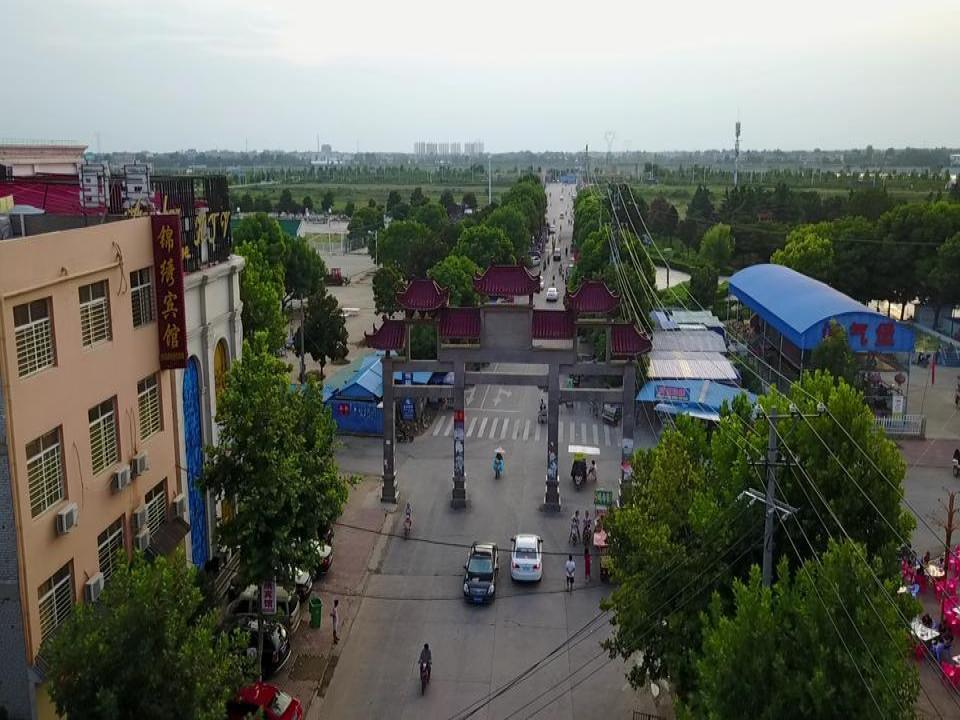car: (178, 612, 292, 681), (191, 680, 303, 720), (246, 533, 334, 583), (250, 509, 335, 559), (227, 563, 313, 604), (462, 540, 499, 605), (509, 533, 543, 583), (523, 250, 541, 262), (546, 287, 559, 301), (526, 256, 540, 267), (534, 276, 545, 289), (549, 224, 556, 233), (559, 212, 564, 219), (571, 195, 576, 200), (559, 195, 563, 200)
truck: (526, 247, 540, 256)
van: (223, 583, 301, 641), (553, 248, 561, 260)
